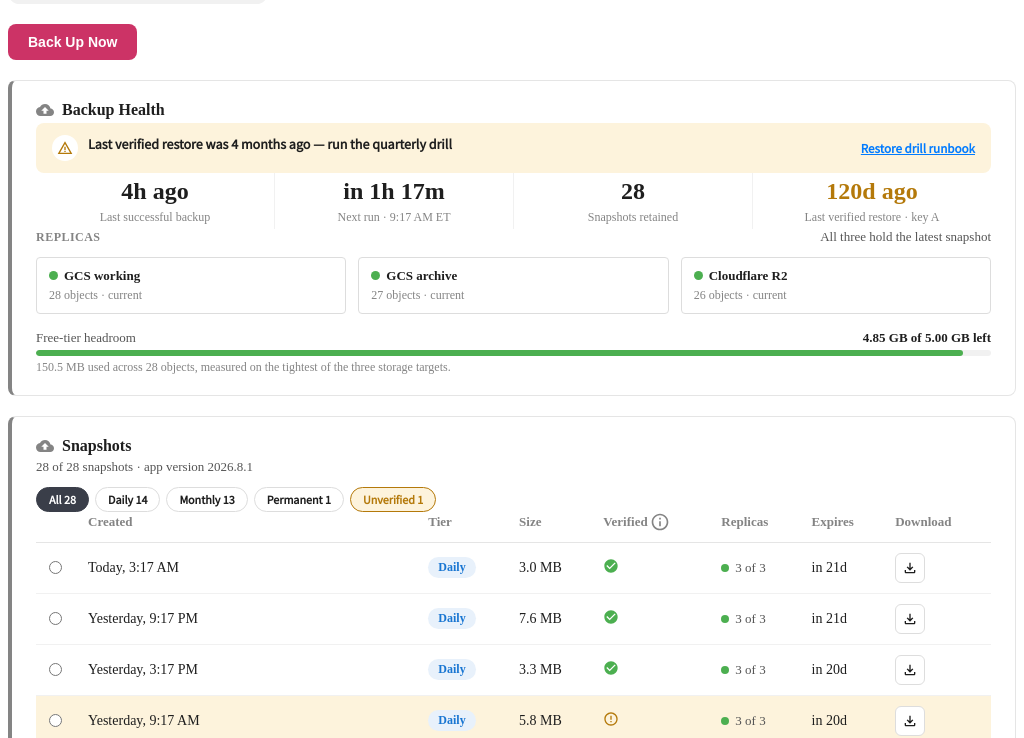
Test: BackupsTab › the runbook's copy button has an accessible 'Copy command' label
What coordinates should you click on to do the following:
click the radio button named "Select Today, 3:17 AM snapshot"
I would click on:
 (56, 567)
Its box is [49,561,62,574].
(page scrolled)
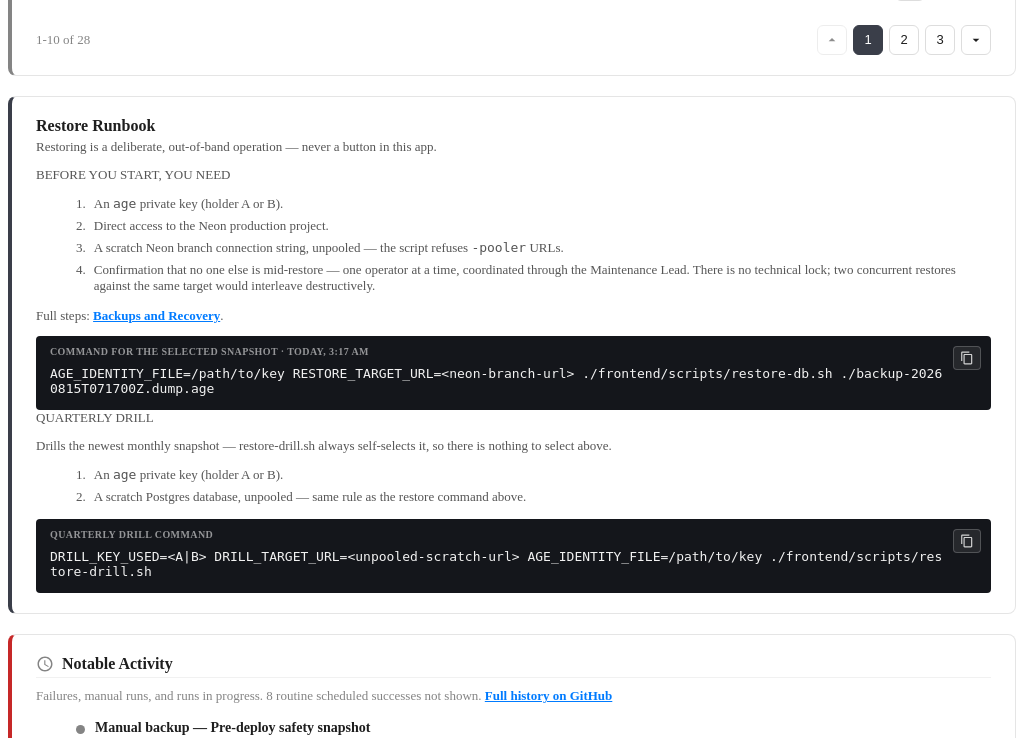
Expected: the button named "Copy command" is shown, [953,346,981,370]
